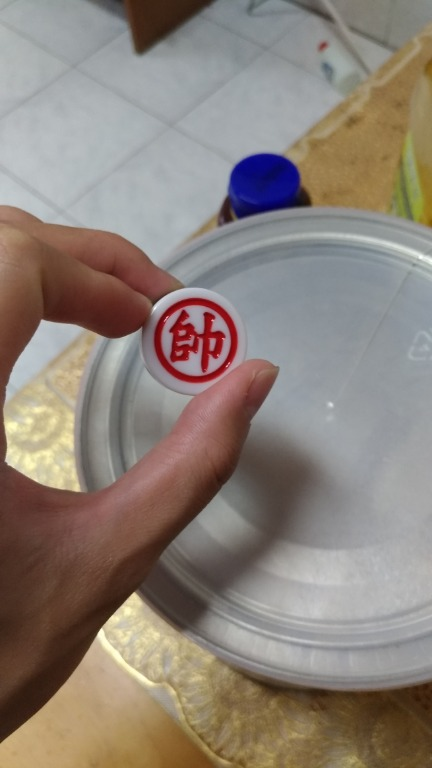r-king: (131, 288, 260, 398)
